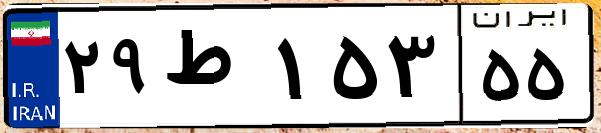1: (270, 28, 330, 110)
2: (57, 26, 110, 100)
3: (385, 28, 445, 110)
5: (330, 28, 385, 110), (475, 38, 525, 113), (525, 38, 570, 115)
9: (110, 28, 158, 98)
ط: (158, 20, 270, 120)
